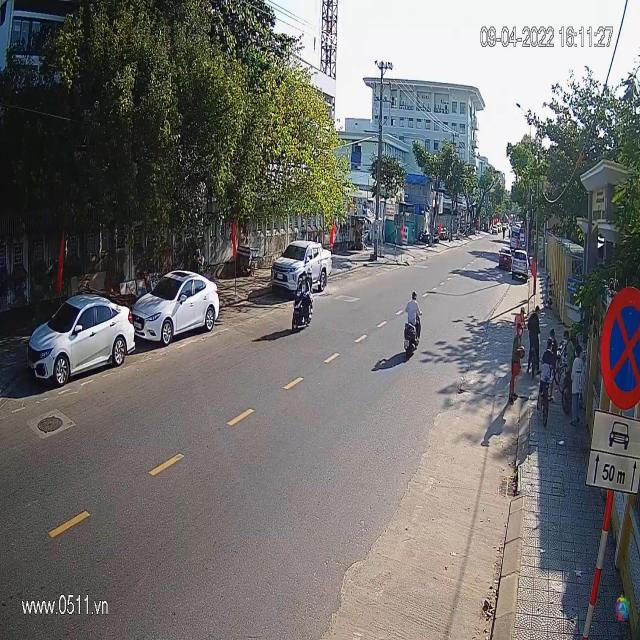car: (26, 294, 134, 386), (129, 271, 220, 348), (271, 242, 330, 297)
motorcycle: (292, 286, 314, 334), (404, 313, 422, 357)
